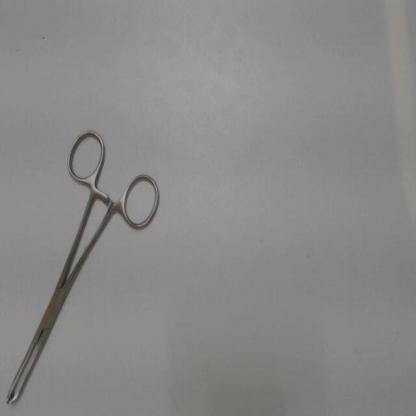Allis Tissue Forceps: (6, 120, 166, 412)
